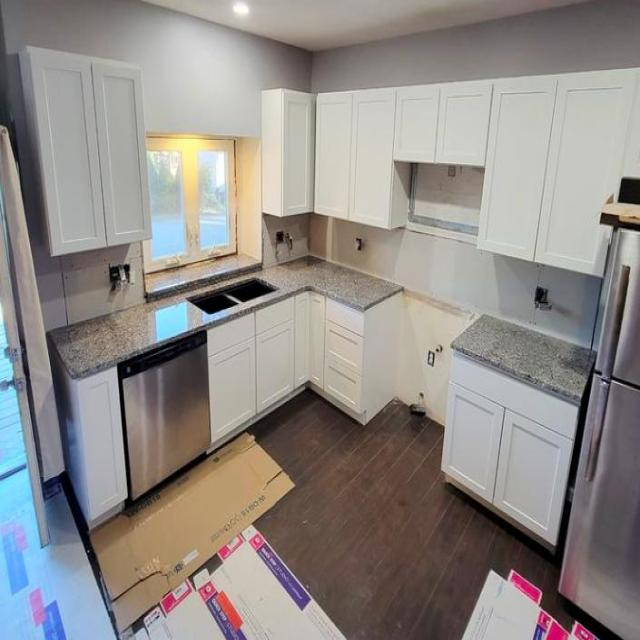dishwasher: (116, 328, 211, 496)
